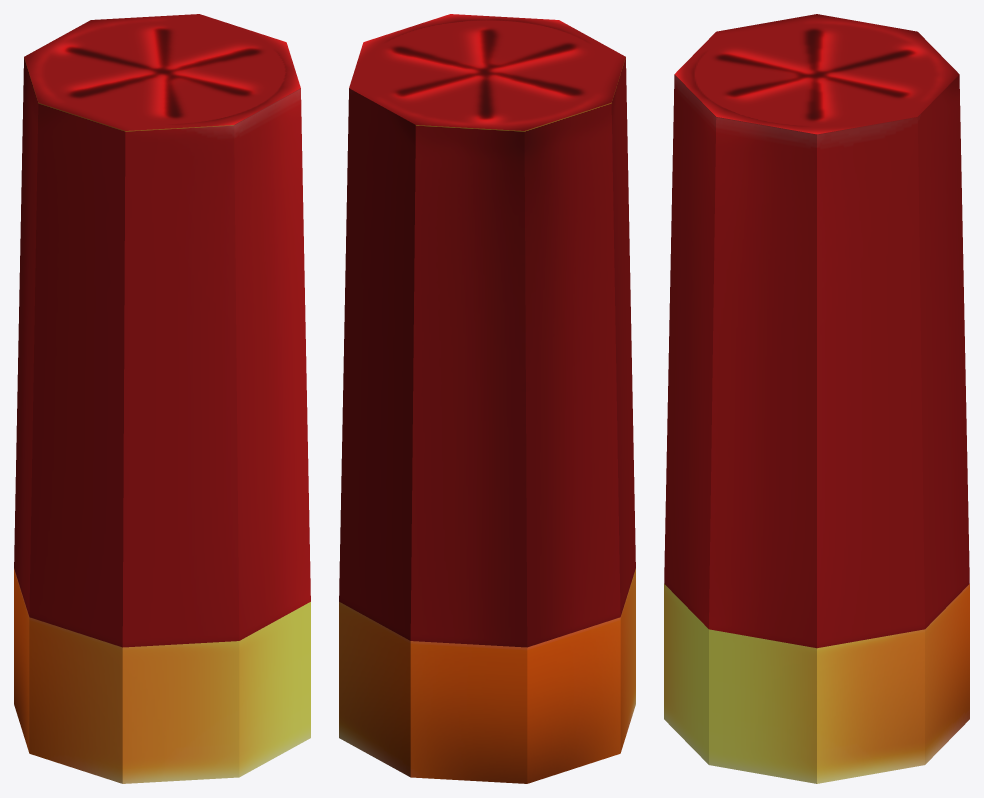
Rendered from ShotgunShells.obj.
3 renders of one model, left to right at view 1: azimuth 30°, elevation 25°; view 2: azimuth 150°, elevation 25°; view 3: azimuth 270°, elevation 25°, orthographic.
Visible parts, largest first — view 1: Cylinder_Cylinder.001; view 2: Cylinder_Cylinder.001; view 3: Cylinder_Cylinder.001.
Part boxes in pixels (x1,y1,x2,y2): Cylinder_Cylinder.001: [14, 14, 310, 783]; Cylinder_Cylinder.001: [339, 14, 635, 783]; Cylinder_Cylinder.001: [664, 14, 969, 783].
Size of the model in its own units: 0.0158 by 0.0368 by 0.0158.
